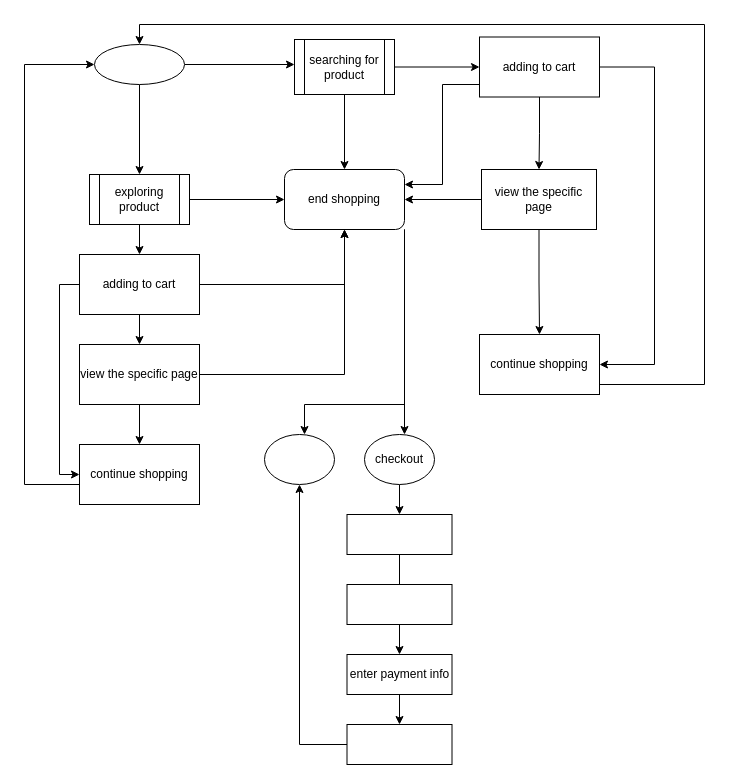
This 730x782 diagram has some shape labels left out. Each missing label, with the box of its shape:
enter: (94, 44, 184, 84)
exit: (264, 434, 334, 484)
getting order info & receiving email: (346, 724, 452, 764)
payment screen: (346, 584, 452, 624)
shopping cart: (346, 514, 452, 554)
